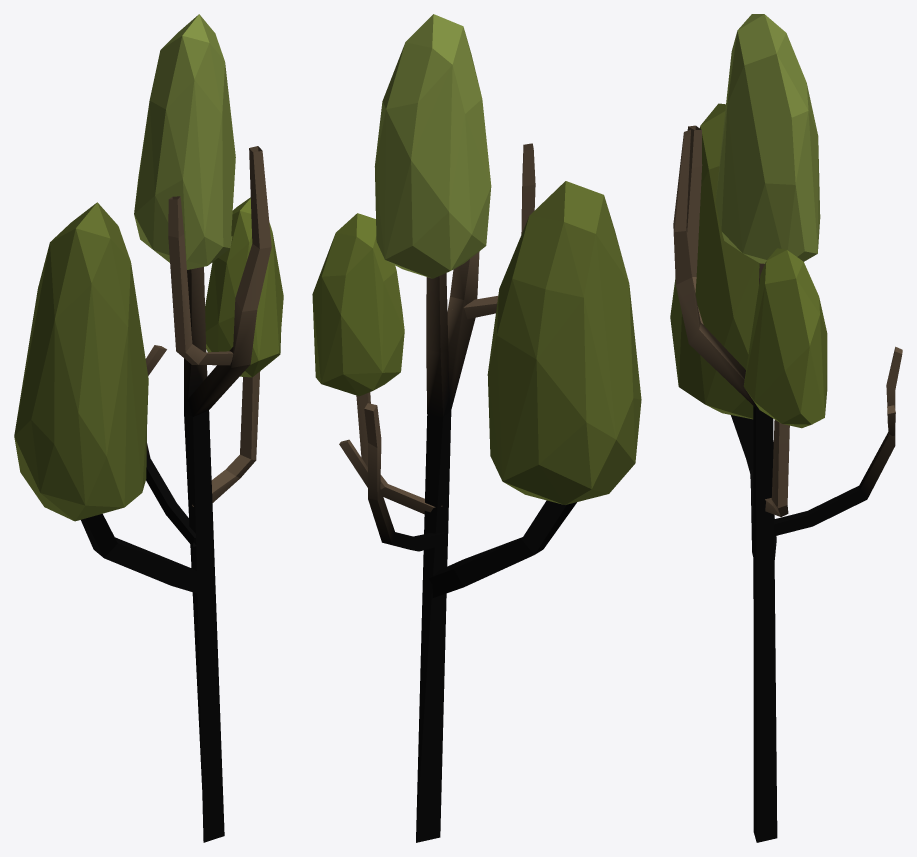
Rendered from EA03_Nature_Tree_02c.glb.
3 views of the same model, side by side, from view 1: azimuth 30°, elevation 25°; view 2: azimuth 150°, elevation 25°; view 3: azimuth 270°, elevation 25° (orthographic).
Parts seen in each view (by area): view 1: EA03_Nature_Tree_02c; view 2: EA03_Nature_Tree_02c; view 3: EA03_Nature_Tree_02c.
Part boxes in pixels (left/top/right/bottom): EA03_Nature_Tree_02c: left=14, top=14, right=283, bottom=842; EA03_Nature_Tree_02c: left=312, top=14, right=641, bottom=842; EA03_Nature_Tree_02c: left=670, top=14, right=902, bottom=842.
Bounding box in the file's own units: 3.37 × 9.37 × 2.41.
1 material, 1 textured.
